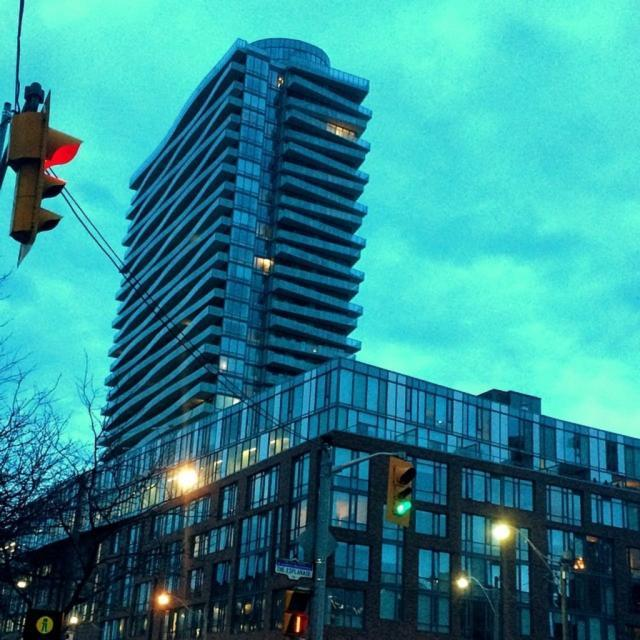traffic light: (6, 83, 85, 270), (385, 456, 418, 526), (284, 589, 312, 635)
